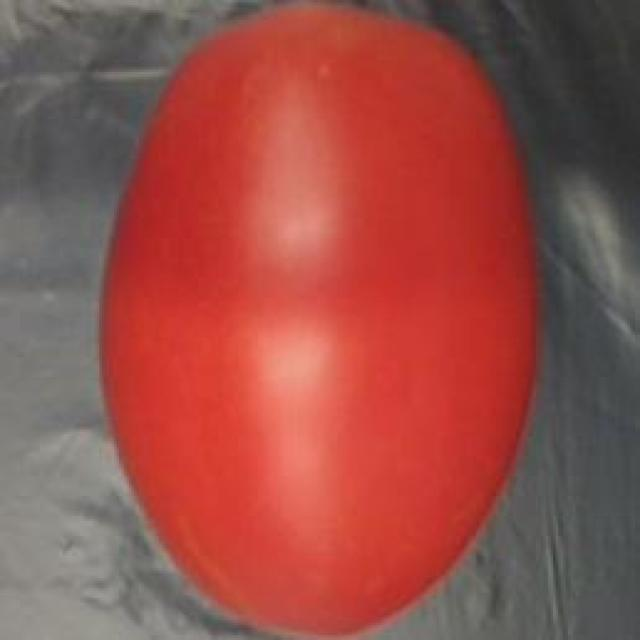ripe tomato: (94, 0, 548, 640)
